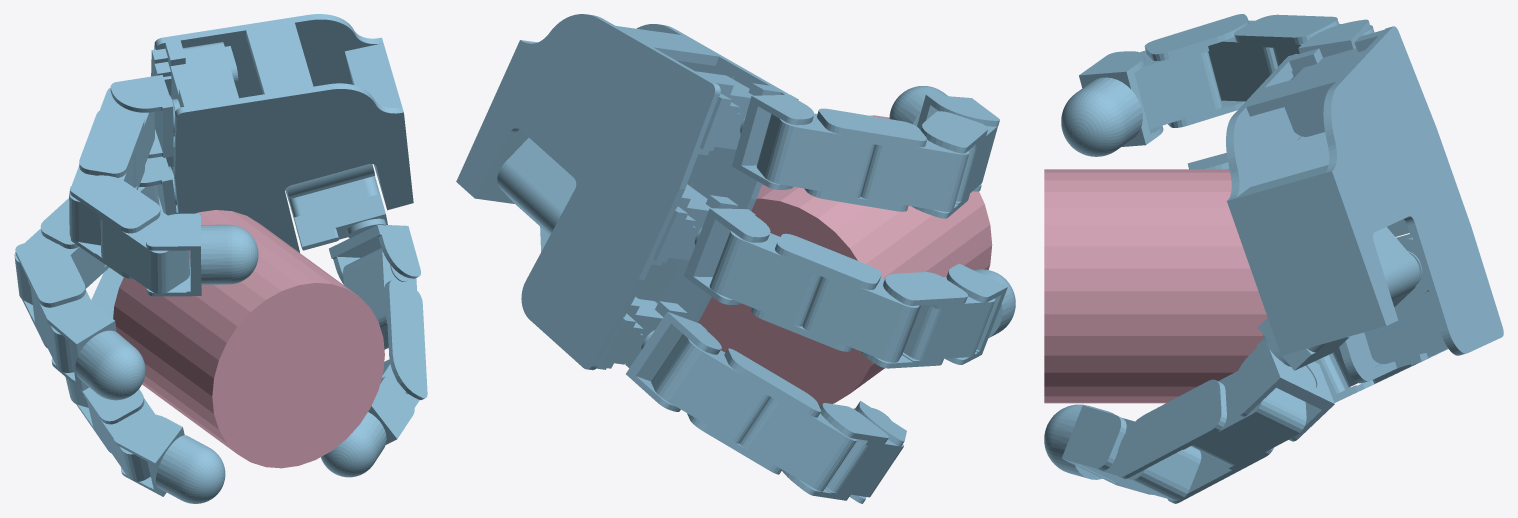
3 views of the same model, side by side, from view 1: azimuth 30°, elevation 25°; view 2: azimuth 150°, elevation 25°; view 3: azimuth 270°, elevation 25° (orthographic). The views are drawn at different scales.
Parts seen in each view (by area): view 1: world, cylinder_medium.stl; view 2: world, cylinder_medium.stl; view 3: world, cylinder_medium.stl.
Boxes of the visible parts, <box> form: world: <box>14,14,427,503</box>; cylinder_medium.stl: <box>113,210,384,468</box>; world: <box>456,14,1015,503</box>; cylinder_medium.stl: <box>698,115,992,407</box>; world: <box>1044,14,1503,503</box>; cylinder_medium.stl: <box>1044,169,1267,403</box>.
Bounding box in the file's own units: 0.188 × 0.1786 × 0.1569.
